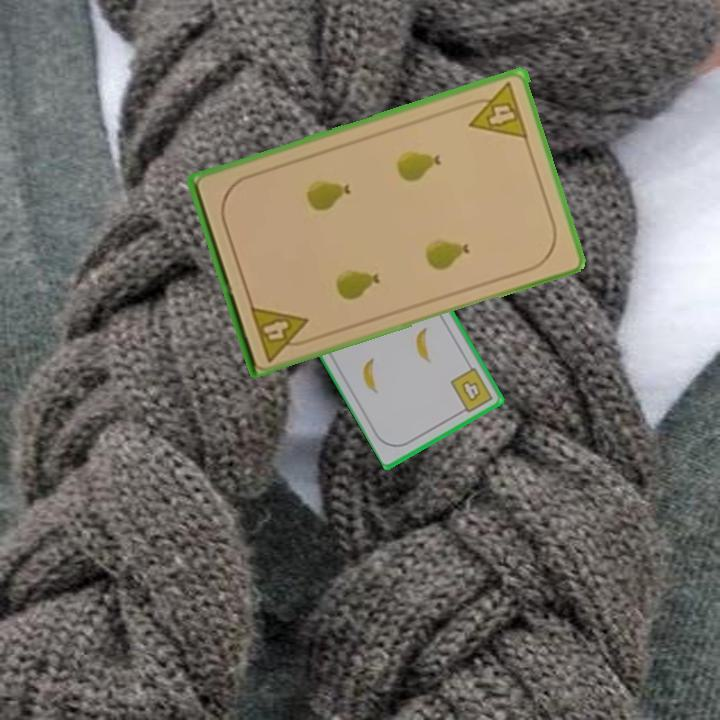4b: (447, 364, 496, 417)
4p: (246, 301, 316, 365), (461, 79, 531, 142)
